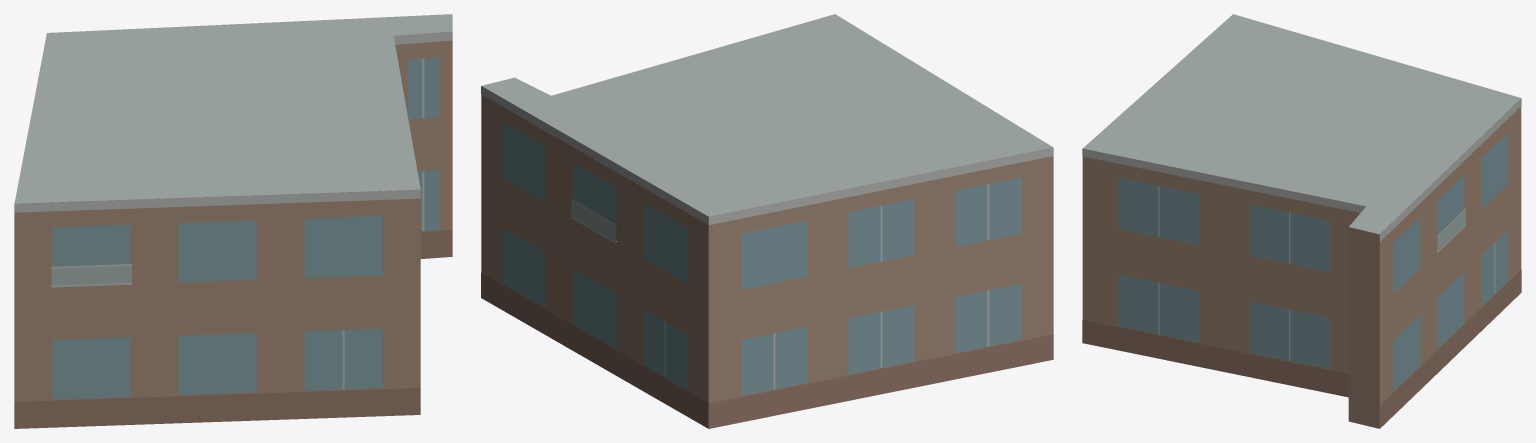
Rendered from survey-upis-33029691.glb.
3 views of the same model, side by side, from view 1: azimuth 30°, elevation 25°; view 2: azimuth 150°, elevation 25°; view 3: azimuth 270°, elevation 25° (orthographic). The views are drawn at different scales.
Parts seen in each view (by area): view 1: survey-upis-33029691.tmp; view 2: survey-upis-33029691.tmp; view 3: survey-upis-33029691.tmp.
Boxes of the visible parts, left/top/right/bottom form: survey-upis-33029691.tmp: left=14, top=14, right=452, bottom=428; survey-upis-33029691.tmp: left=481, top=14, right=1053, bottom=428; survey-upis-33029691.tmp: left=1082, top=14, right=1521, bottom=428.
Size of the model in its own units: 14.83 by 6.1 by 12.48.
